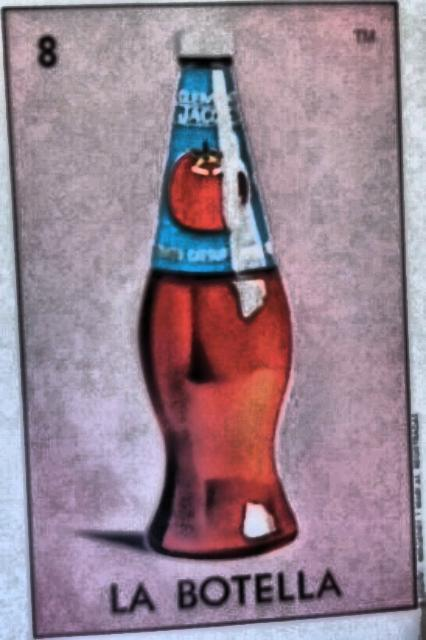La Botella: (4, 5, 416, 634)
